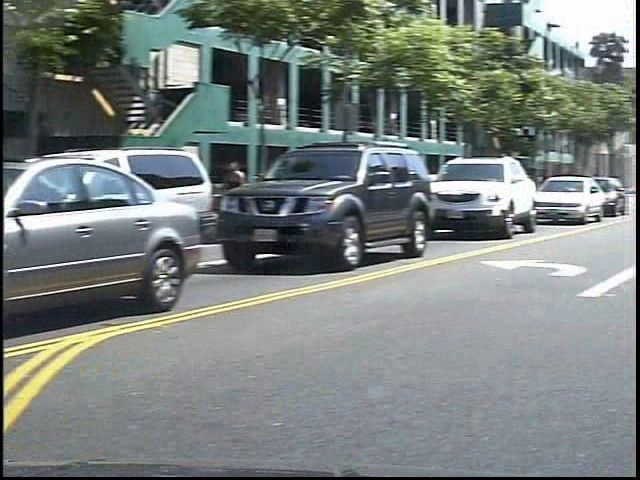person: (235, 154, 265, 232)
